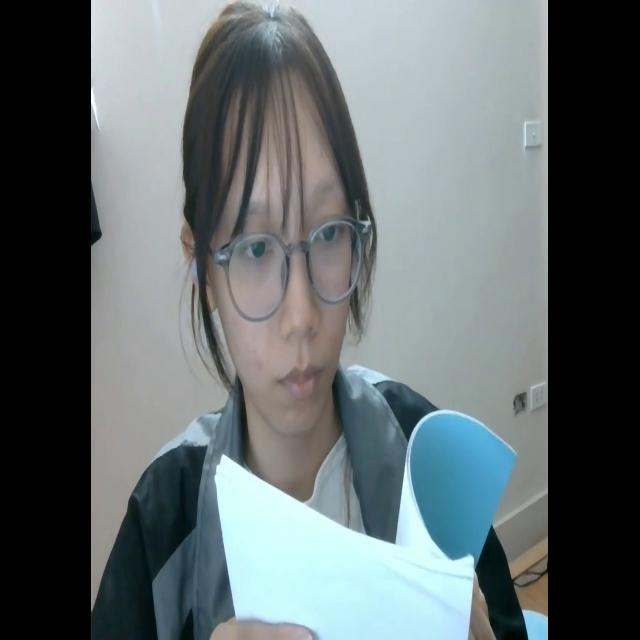book: (206, 408, 517, 636)
student: (106, 6, 524, 640)
